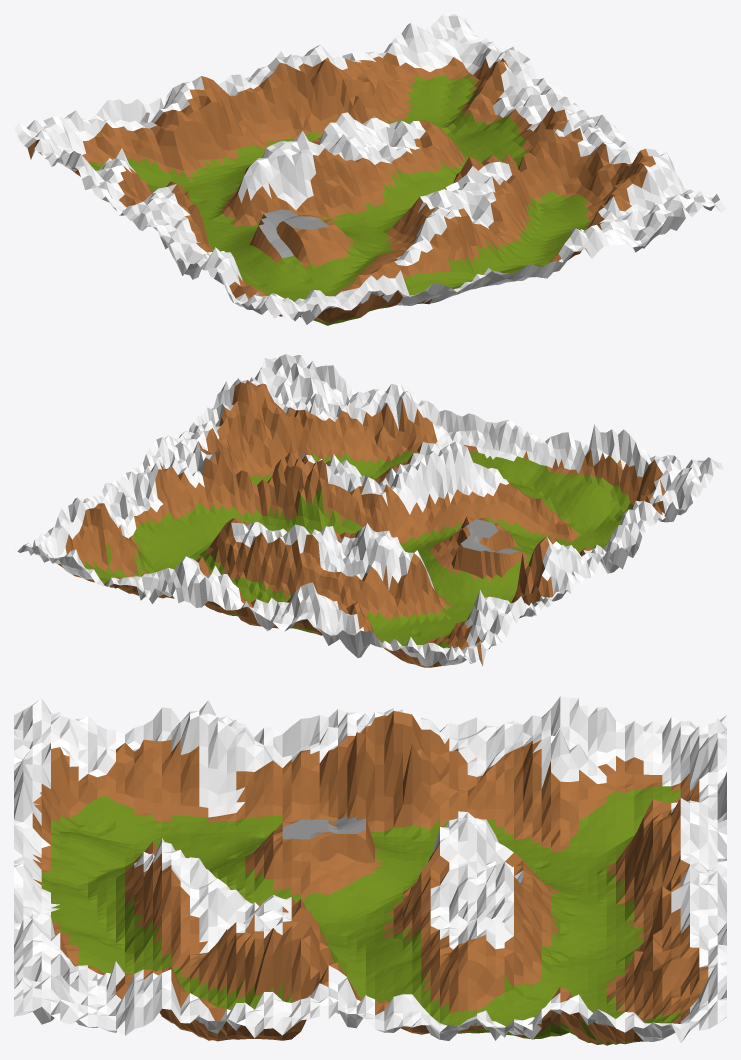
File: terrain.fbx
The picture shows the model from 3 angles, top to bottom: view 1: azimuth 30°, elevation 25°; view 2: azimuth 150°, elevation 25°; view 3: azimuth 270°, elevation 25°; orthographic projection. The views are drawn at different scales.
Visible parts, largest first — view 1: terrain; view 2: terrain; view 3: terrain.
Boxes of the visible parts, x1,y1,x2,y2 form: terrain: [14, 14, 726, 325]; terrain: [15, 354, 726, 667]; terrain: [14, 696, 726, 1045].
Bounding box in the file's own units: 10000 × 1632 × 10000.
